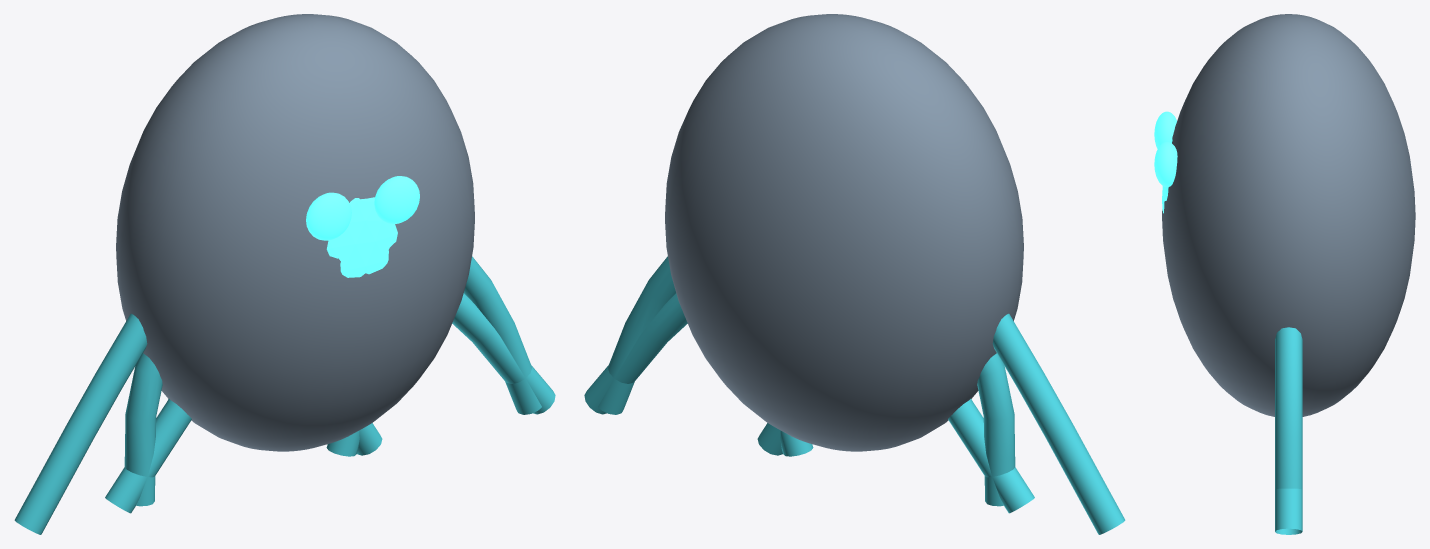
The model's file is elemental_v5.glb.
3 renders of one model, left to right at view 1: azimuth 30°, elevation 25°; view 2: azimuth 150°, elevation 25°; view 3: azimuth 270°, elevation 25°, orthographic. The views are drawn at different scales.
Parts seen in each view (by area): view 1: WATER_BODY_PRIMARY, WATER_RIBBON_ACCENT.003, WATER_RIBBON_ACCENT.004, WATER_CORE_EMISSIVE, WATER_RIBBON_ACCENT, WATER_RIBBON_ACCENT.006, WATER_RIBBON_ACCENT.002, EYE_EMISSIVE, EYE_EMISSIVE.001; view 2: WATER_BODY_PRIMARY, WATER_RIBBON_ACCENT.003, WATER_RIBBON_ACCENT.004, WATER_RIBBON_ACCENT, WATER_RIBBON_ACCENT.006, WATER_RIBBON_ACCENT.002; view 3: WATER_BODY_PRIMARY, WATER_RIBBON_ACCENT, WATER_RIBBON_ACCENT.006, EYE_EMISSIVE.001, EYE_EMISSIVE.
Boxes of the visible parts, x1,y1,x2,y2 form: WATER_BODY_PRIMARY: (116,14,474,451); WATER_RIBBON_ACCENT.003: (14,313,147,534); WATER_RIBBON_ACCENT.004: (124,353,162,506); WATER_CORE_EMISSIVE: (326,197,397,277); WATER_RIBBON_ACCENT: (464,256,541,414); WATER_RIBBON_ACCENT.006: (452,293,555,414); WATER_RIBBON_ACCENT.002: (105,399,191,513); EYE_EMISSIVE: (306,192,351,240); EYE_EMISSIVE.001: (374,176,419,223); WATER_BODY_PRIMARY: (665,14,1023,451); WATER_RIBBON_ACCENT.003: (992,313,1125,534); WATER_RIBBON_ACCENT.004: (977,353,1015,506); WATER_RIBBON_ACCENT: (598,256,675,414); WATER_RIBBON_ACCENT.006: (584,293,687,414); WATER_RIBBON_ACCENT.002: (948,399,1034,513); WATER_BODY_PRIMARY: (1162,14,1415,416); WATER_RIBBON_ACCENT: (1275,327,1302,489); WATER_RIBBON_ACCENT.006: (1275,488,1302,534); EYE_EMISSIVE.001: (1154,141,1177,186); EYE_EMISSIVE: (1154,111,1176,148).
Size of the model in its own units: 2.2 by 1.75 by 1.03.
